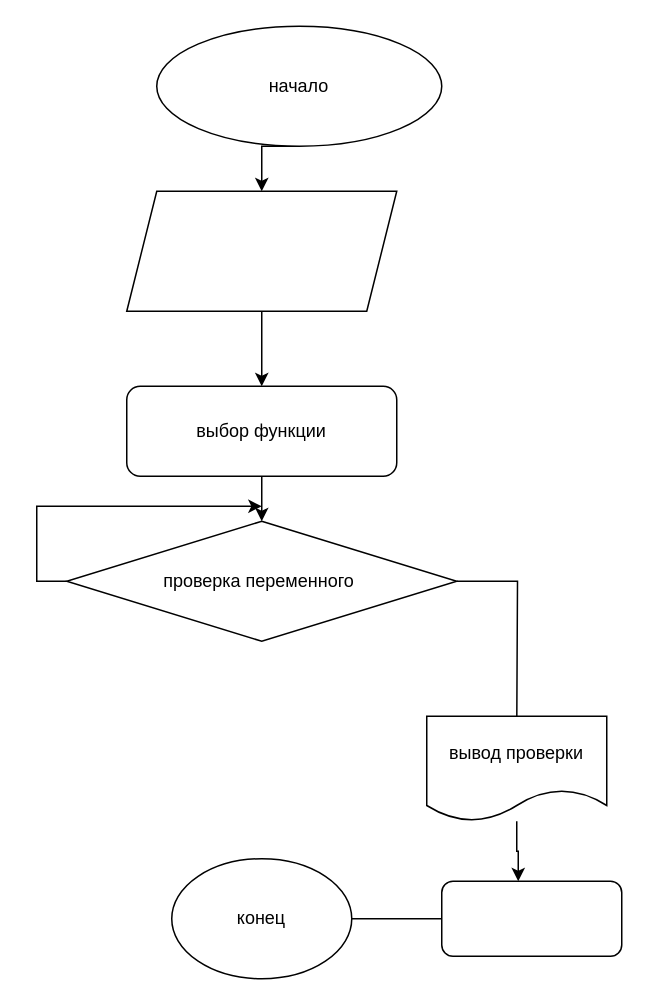
This 648x1005 diagram has some shape labels left out. Here are the shapes that lost their labels. From the top down, the box of each, then its label:
(125, 190, 397, 311): ввод массива ввод переменного
(440, 880, 622, 956): вывод резултата
